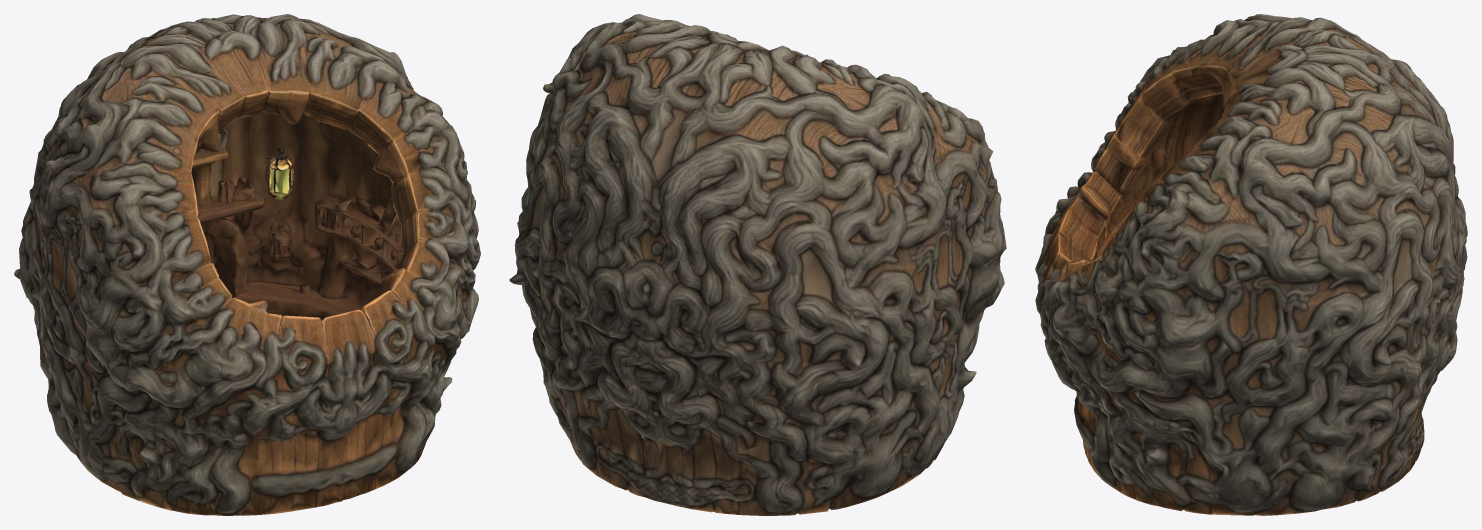
Rendered from treehouse-interior.glb.
The picture shows the model from 3 angles, left to right: view 1: azimuth 30°, elevation 25°; view 2: azimuth 150°, elevation 25°; view 3: azimuth 270°, elevation 25°; orthographic projection. The views are drawn at different scales.
Size of the model in its own units: 1.9 by 1.85 by 1.83.
1 material, 1 textured.
